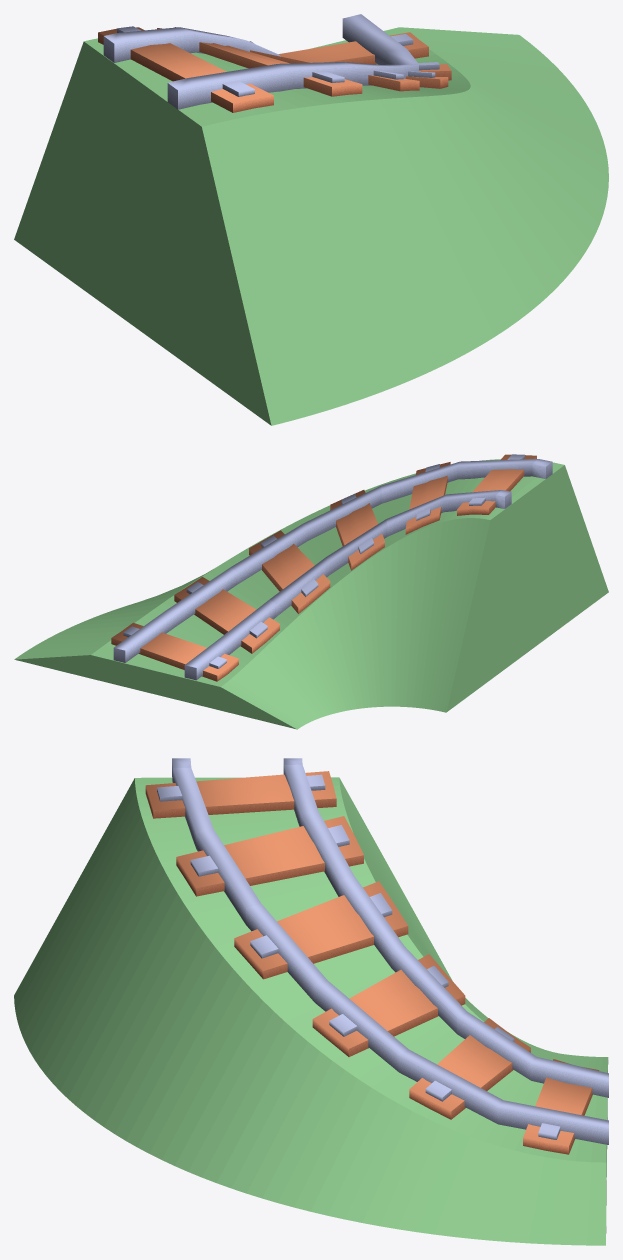
The model's file is hill-corner-up.glb.
3 renders of one model, top to bottom at view 1: azimuth 30°, elevation 25°; view 2: azimuth 150°, elevation 25°; view 3: azimuth 270°, elevation 25°, orthographic. The views are drawn at different scales.
Visible parts, largest first — view 1: corner_up_mound, corner_up_rails; view 2: corner_up_mound, corner_up_rails; view 3: corner_up_mound, corner_up_rails.
Part boxes in pixels (x1,y1,x2,y2): corner_up_mound: (14, 27, 608, 425); corner_up_rails: (98, 14, 451, 112); corner_up_mound: (14, 459, 608, 729); corner_up_rails: (111, 454, 552, 681); corner_up_mound: (14, 777, 608, 1245); corner_up_rails: (145, 758, 608, 1154).
Bounding box in the file's own units: 3.2 × 1.4 × 3.2.
Materials: 2 (1 with a texture image).
